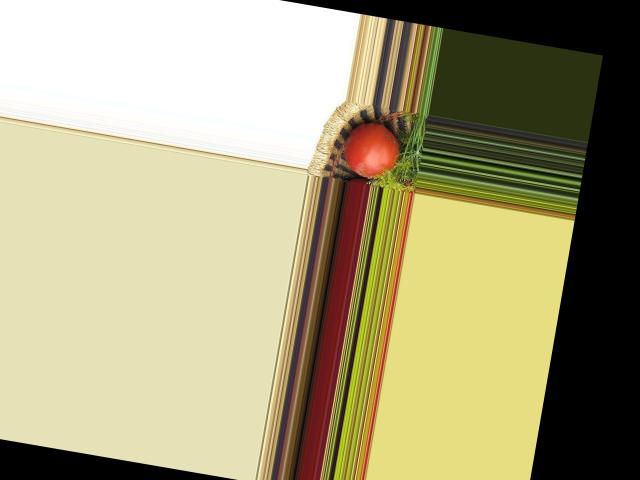tomato: (340, 119, 405, 182)
